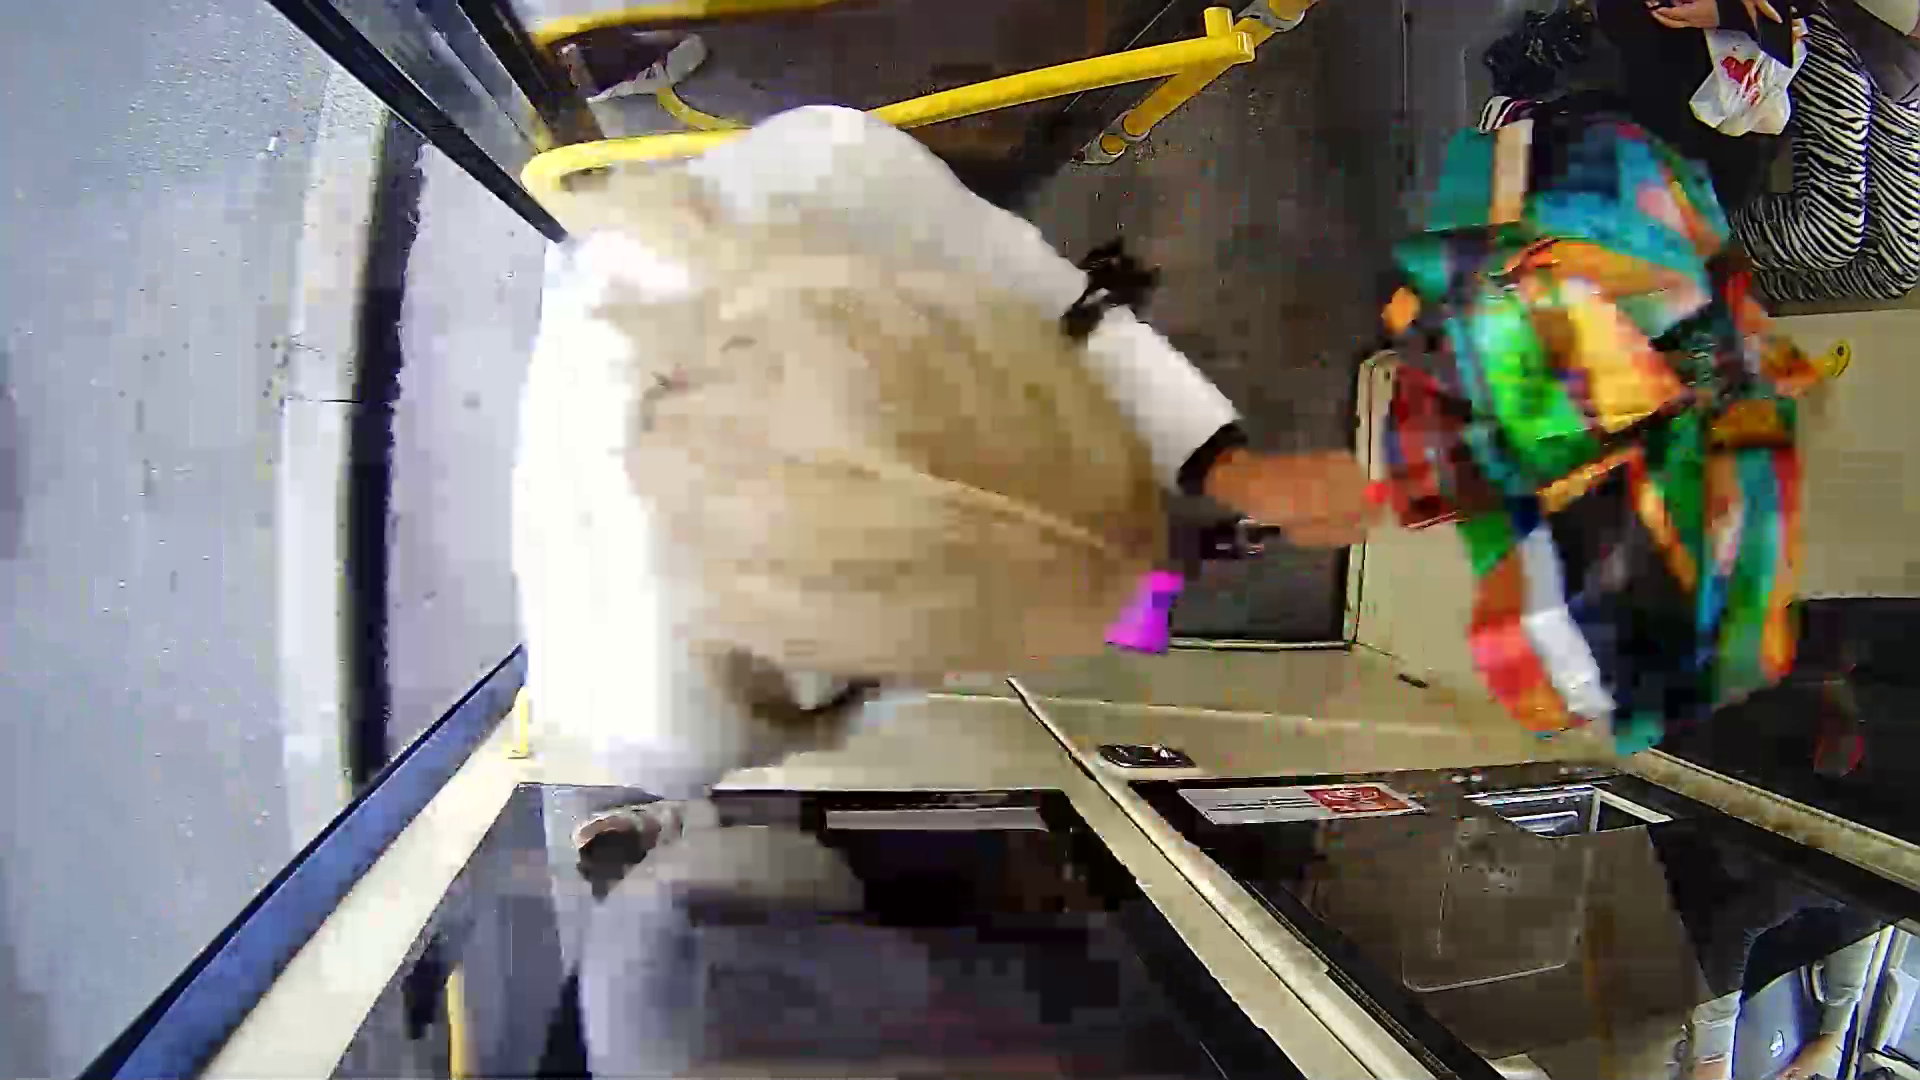person: (470, 106, 1315, 794)
